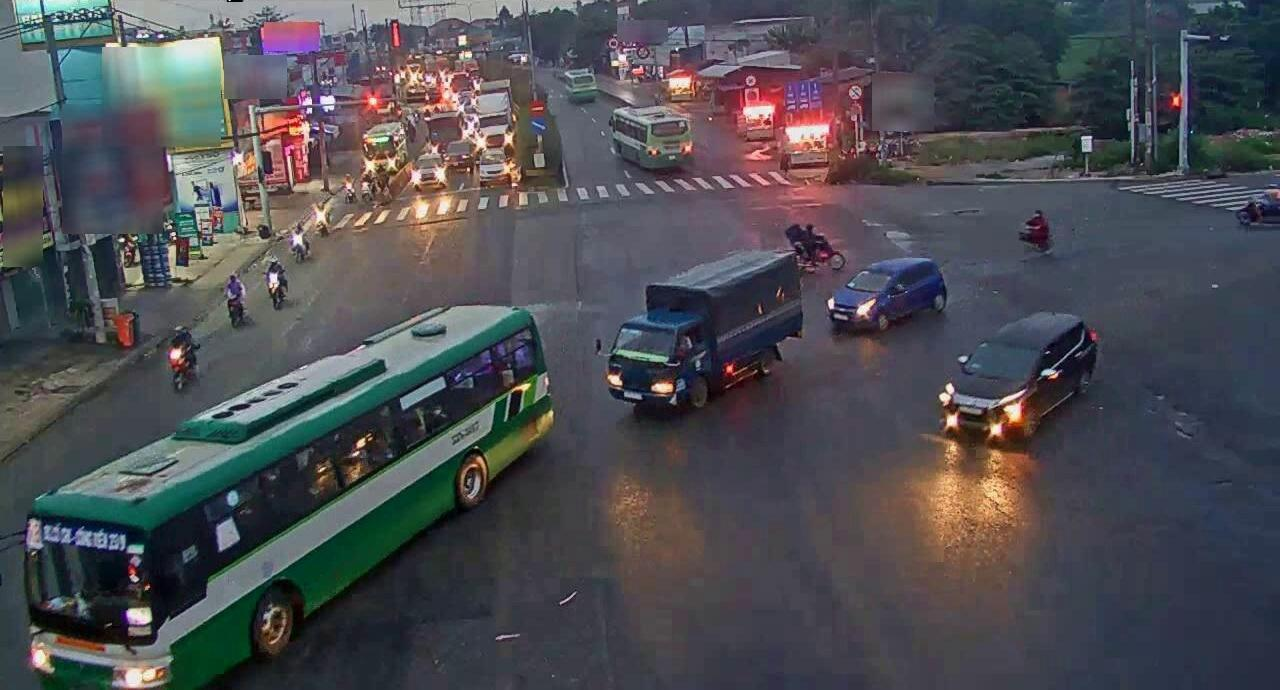xe buyt: (39, 300, 565, 687)
xe hoi: (836, 255, 959, 336)
xe may: (256, 213, 282, 259)
xe tai: (604, 258, 812, 406)
